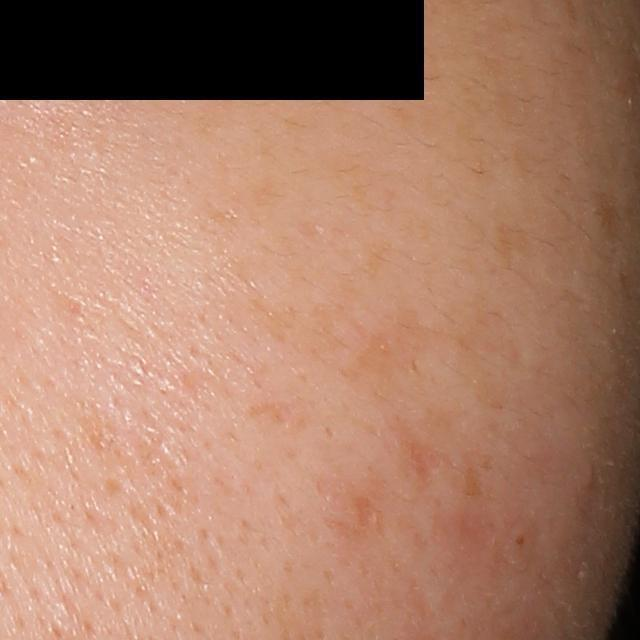atrophic_scar: (352, 494, 383, 533)
comedo: (512, 530, 531, 550)
melasma: (244, 234, 397, 366), (335, 303, 450, 415), (489, 217, 535, 275), (591, 191, 626, 241)
